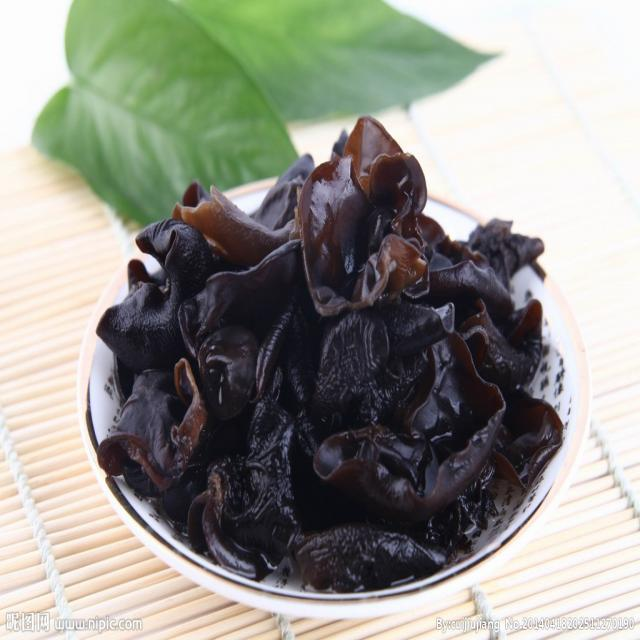Auricularia auricula: (97, 117, 565, 587)
